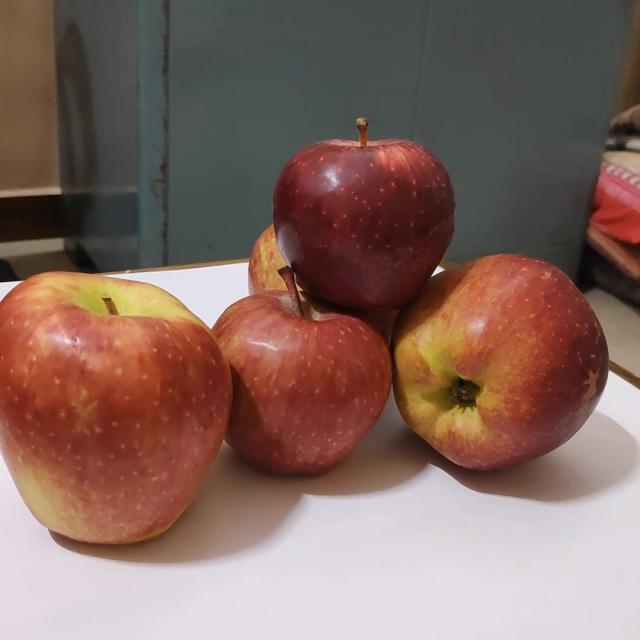apple: (1, 258, 232, 550), (393, 247, 618, 473), (210, 256, 394, 485), (268, 104, 461, 304), (249, 210, 304, 294)
